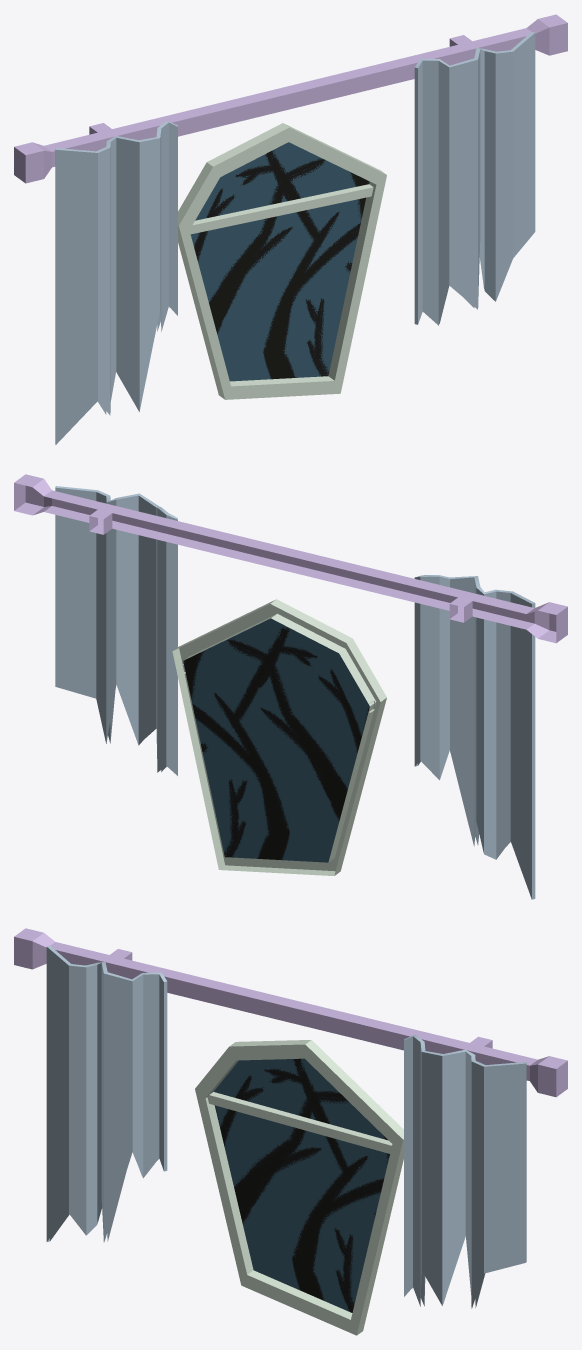
File: WindowWithCurtains.fbx
3 renders of one model, top to bottom at view 1: azimuth 30°, elevation 25°; view 2: azimuth 150°, elevation 25°; view 3: azimuth 330°, elevation 25°, orthographic.
Visible parts, largest first — view 1: polySurface3; view 2: polySurface3; view 3: polySurface3.
Boxes of the visible parts, x1,y1,x2,y2 form: polySurface3: [14, 14, 567, 444]; polySurface3: [14, 474, 567, 899]; polySurface3: [14, 928, 567, 1335].
Bounding box in the file's own units: 15.35 × 8.89 × 1.58.
